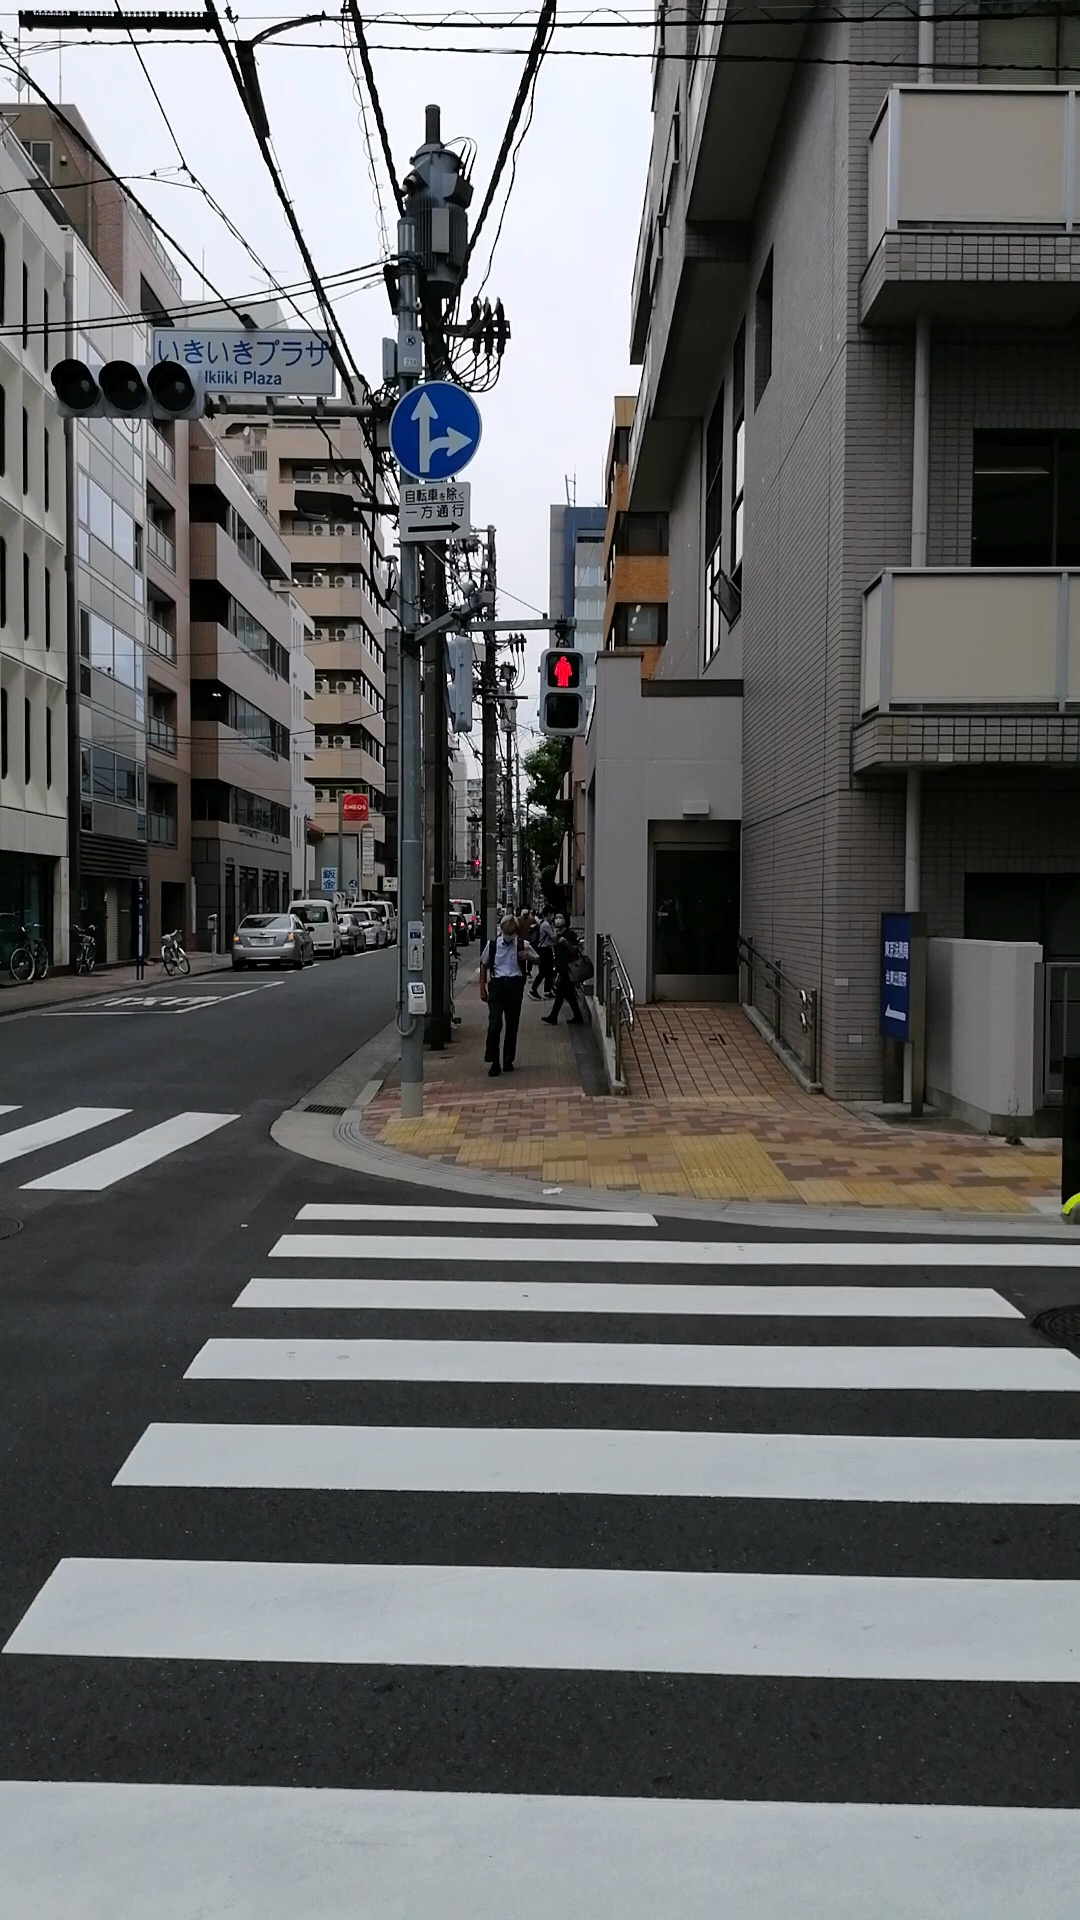red: (538, 647, 585, 736)
